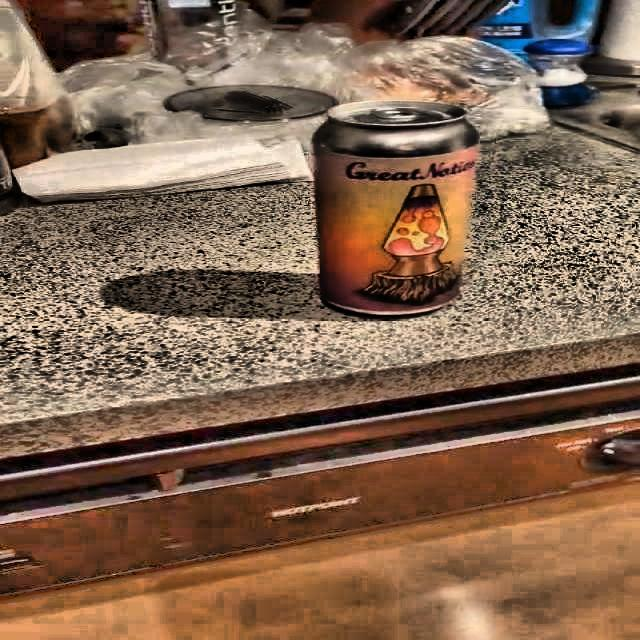can: (305, 91, 483, 326)
